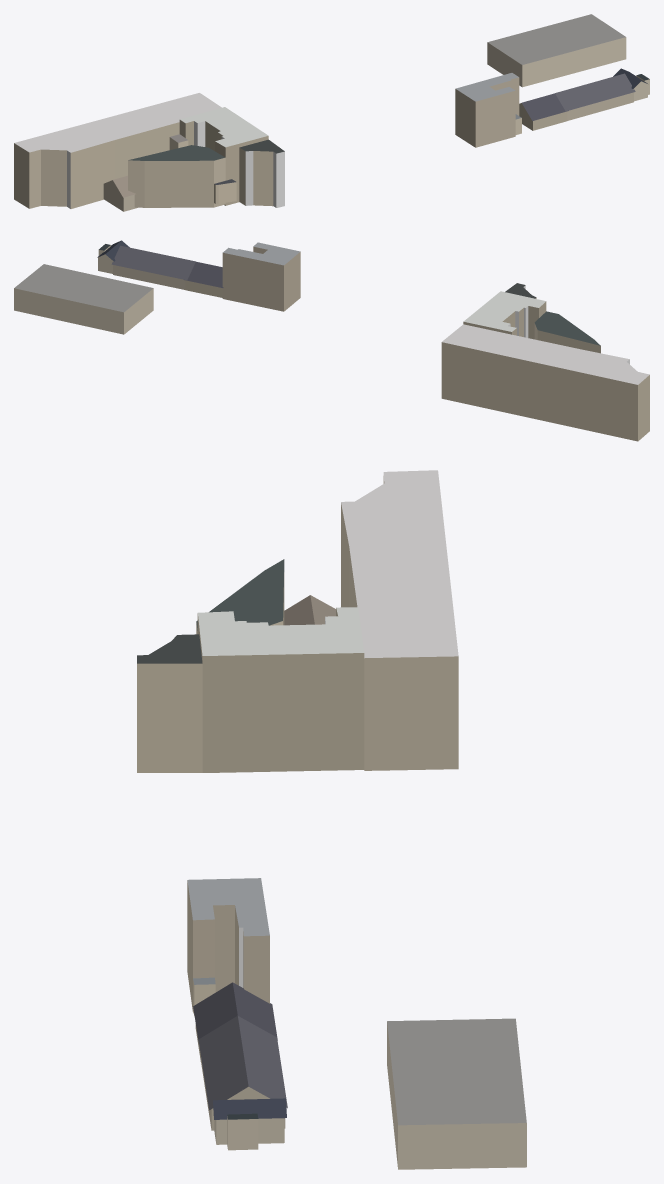
3 views of the same model, one above another, from view 1: azimuth 30°, elevation 25°; view 2: azimuth 150°, elevation 25°; view 3: azimuth 270°, elevation 25° (orthographic). The views are drawn at different scales.
Visible parts, largest first — view 1: tuile; view 2: tuile; view 3: tuile.
Boxes of the visible parts, left/top/right/bottom form: tuile: left=14, top=14, right=649, bottom=211; tuile: left=14, top=240, right=649, bottom=441; tuile: left=137, top=470, right=526, bottom=1169.
Bounding box in the file's own units: 202 × 18.91 × 56.6.
